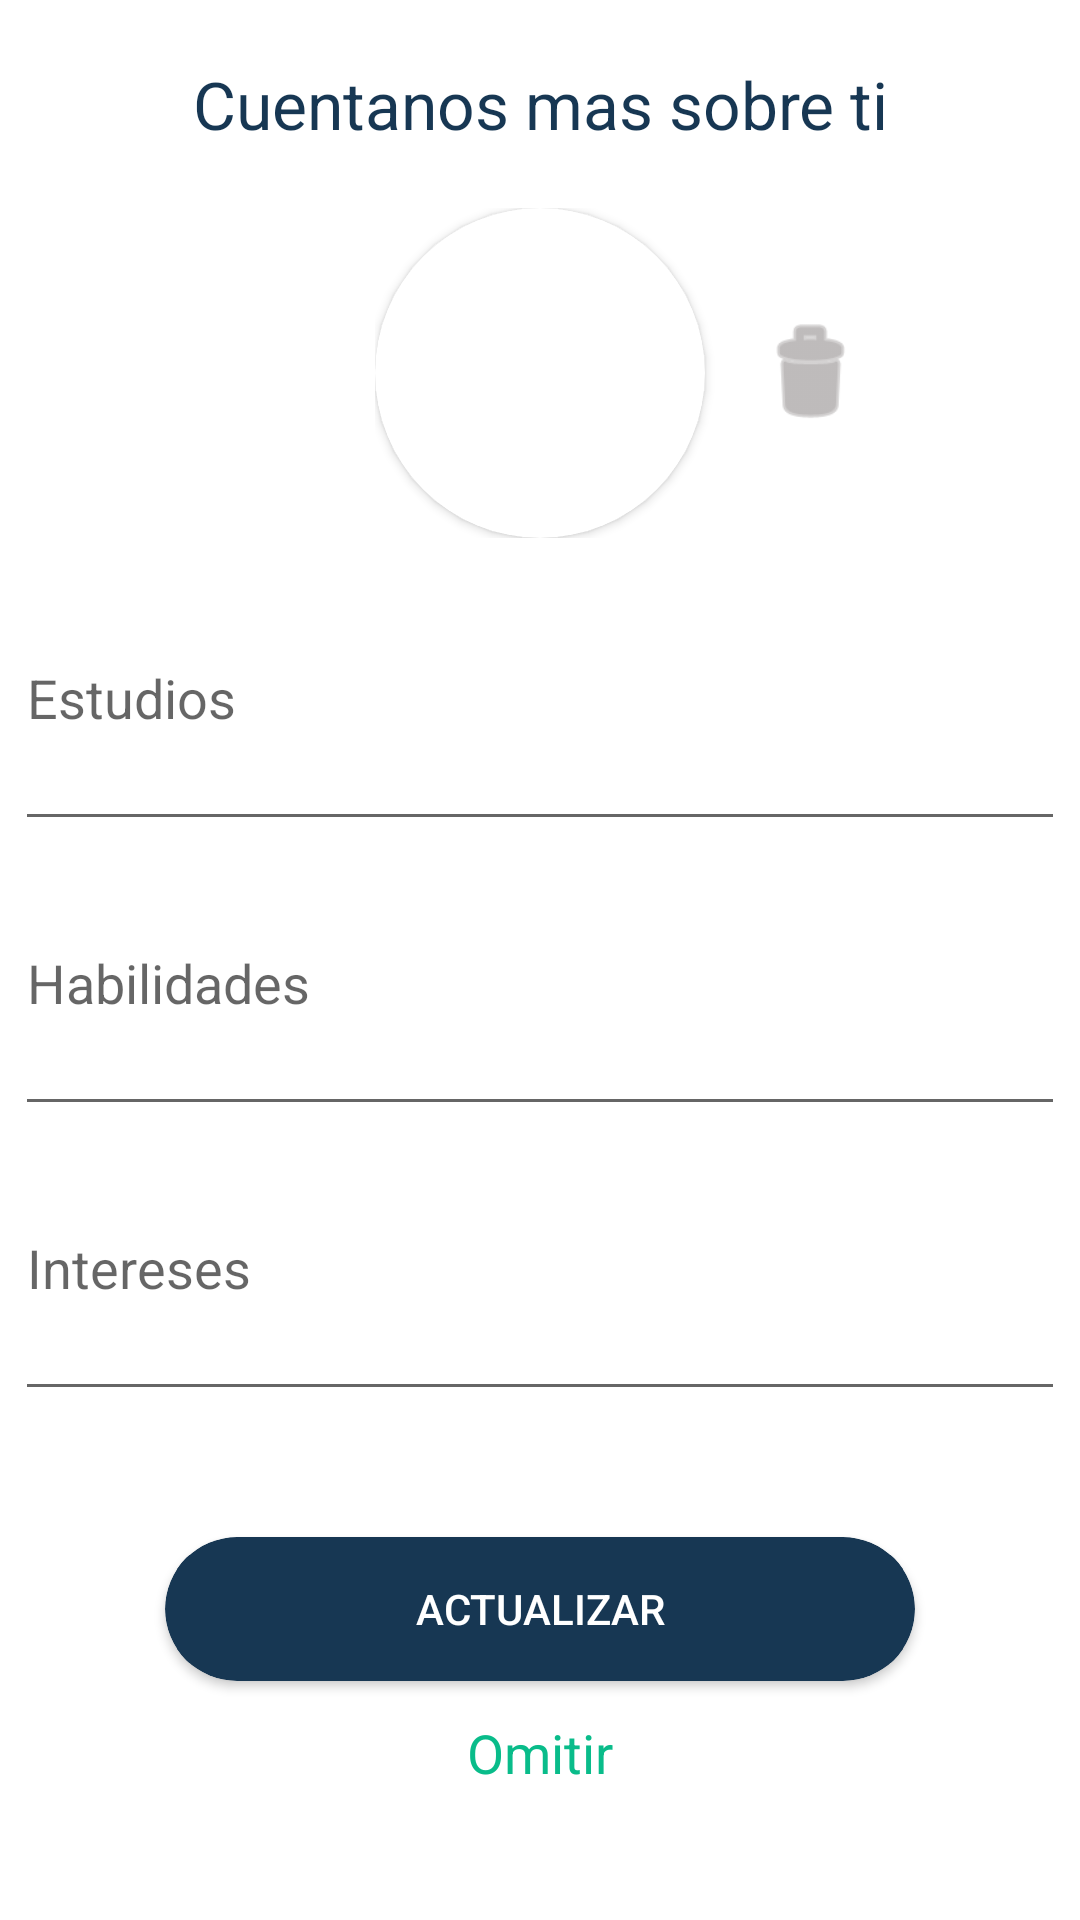

Screen size 1080px x 1920px. Icon name, then its center in pixels as (x=x, y=y):
delete: (x=810, y=371)
